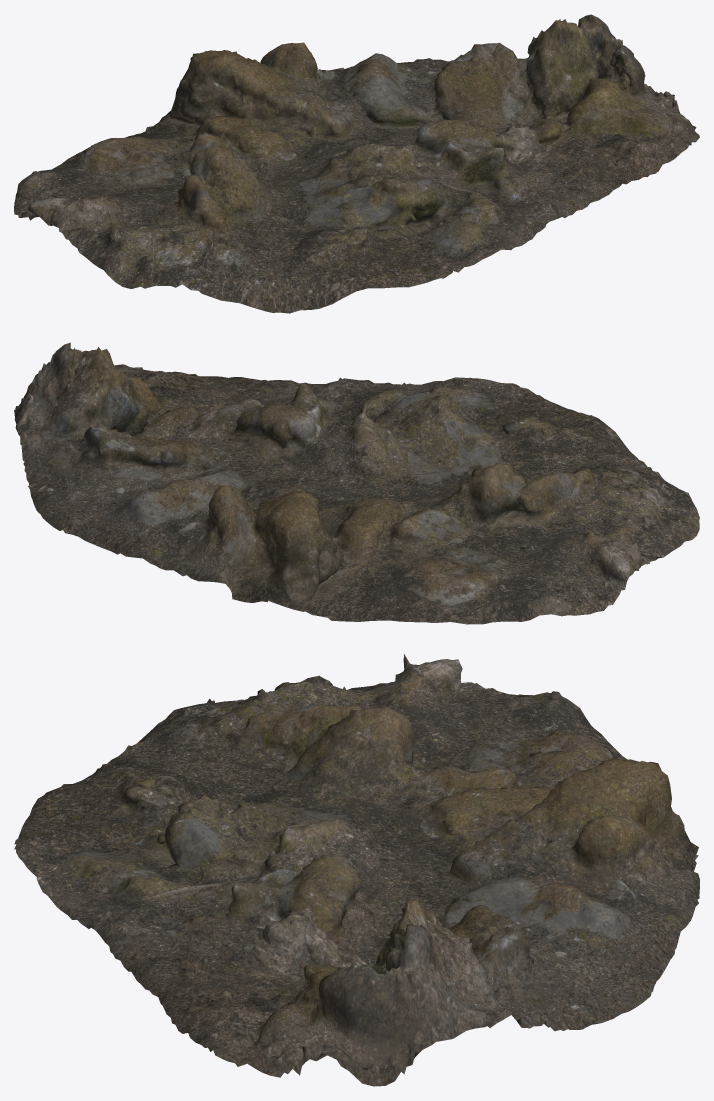
File: PX_Mossy_Rock_10_LOD1.fbx
3 views of the same model, one above another, from view 1: azimuth 30°, elevation 25°; view 2: azimuth 150°, elevation 25°; view 3: azimuth 270°, elevation 25° (orthographic). The views are drawn at different scales.
Visible parts, largest first — view 1: PX_Mossy_Rock_10_LOD1; view 2: PX_Mossy_Rock_10_LOD1; view 3: PX_Mossy_Rock_10_LOD1.
Part boxes in pixels (x1,y1,x2,y2): PX_Mossy_Rock_10_LOD1: (14,14,699,313); PX_Mossy_Rock_10_LOD1: (14,342,699,624); PX_Mossy_Rock_10_LOD1: (14,654,699,1086).
Bounding box in the file's own units: 236 × 40.43 × 171.
